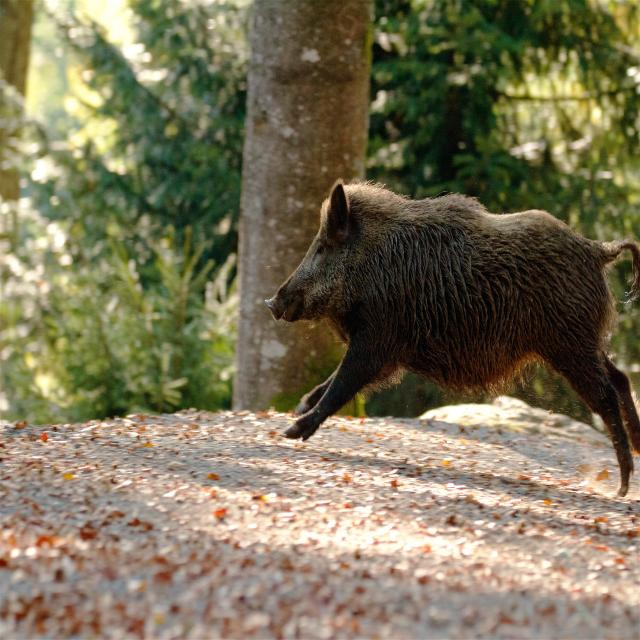Boar: (272, 182, 640, 484)
